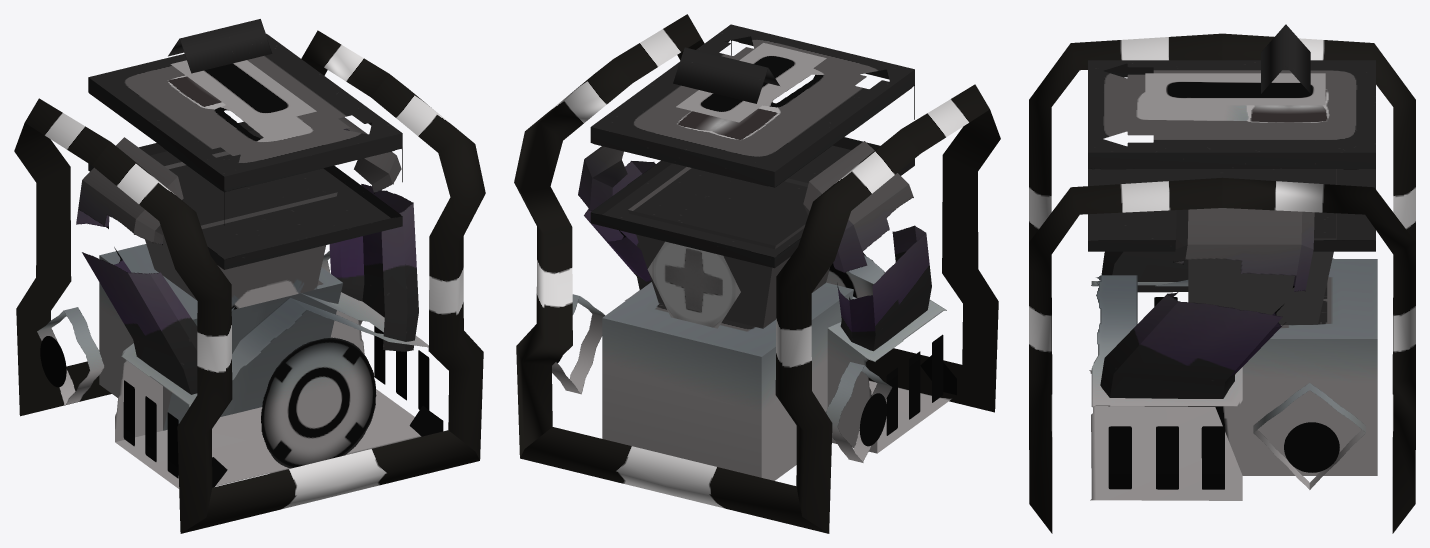
File: obj_interactive_gasengine_03_off_lod1.fbx
The picture shows the model from 3 angles, left to right: view 1: azimuth 30°, elevation 25°; view 2: azimuth 150°, elevation 25°; view 3: azimuth 270°, elevation 25°; orthographic projection. The views are drawn at different scales.
Parts seen in each view (by area): view 1: obj_interactive_gasengine_03_off_lod1; view 2: obj_interactive_gasengine_03_off_lod1; view 3: obj_interactive_gasengine_03_off_lod1.
Part boxes in pixels (left/top/right/bottom): obj_interactive_gasengine_03_off_lod1: left=14, top=19, right=485, bottom=533; obj_interactive_gasengine_03_off_lod1: left=514, top=14, right=1000, bottom=533; obj_interactive_gasengine_03_off_lod1: left=1029, top=24, right=1415, bottom=533.
Size of the model in its own units: 2.04 by 2.4 by 2.04.
